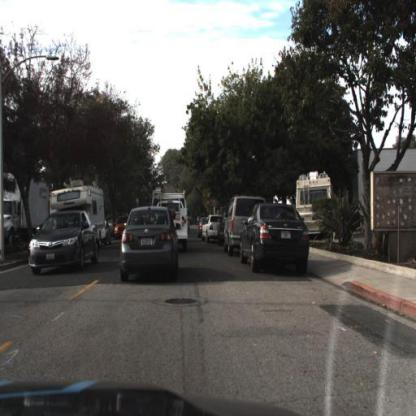car: (27, 206, 102, 279), (242, 205, 315, 277), (120, 204, 179, 282), (296, 166, 336, 243), (152, 187, 192, 253), (224, 194, 265, 253), (50, 183, 105, 223), (202, 211, 227, 244)
truck: (46, 177, 104, 248), (1, 158, 48, 235), (298, 173, 339, 247), (157, 189, 190, 253)
